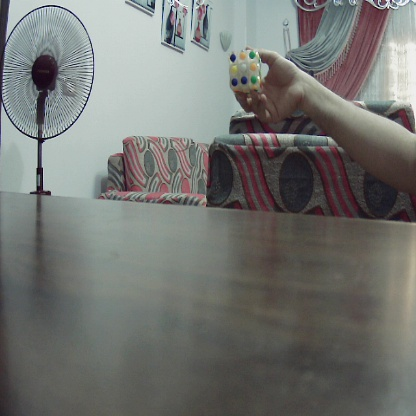Rubix Cube: (228, 51, 262, 91)
